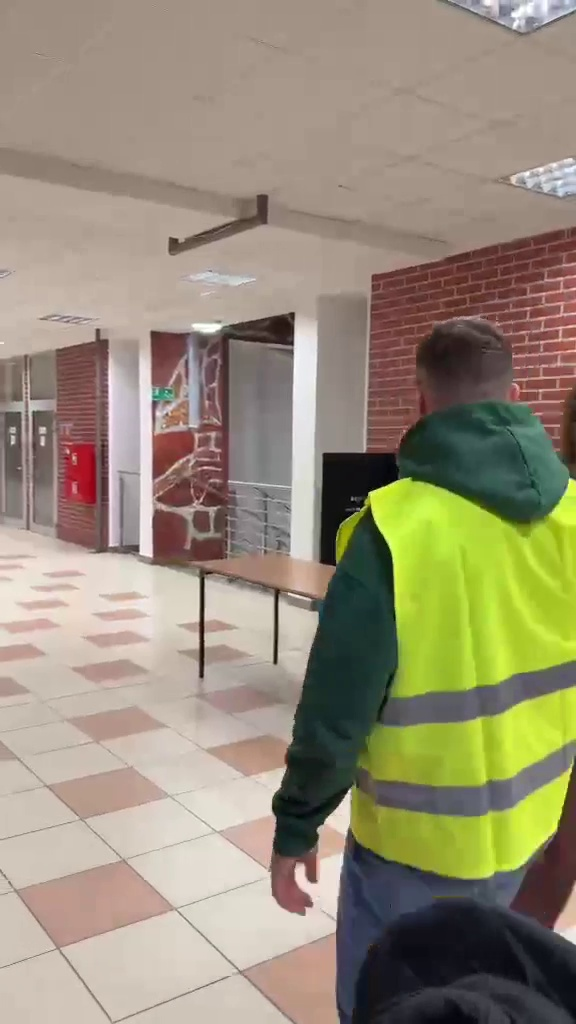vest: (263, 312, 575, 951)
